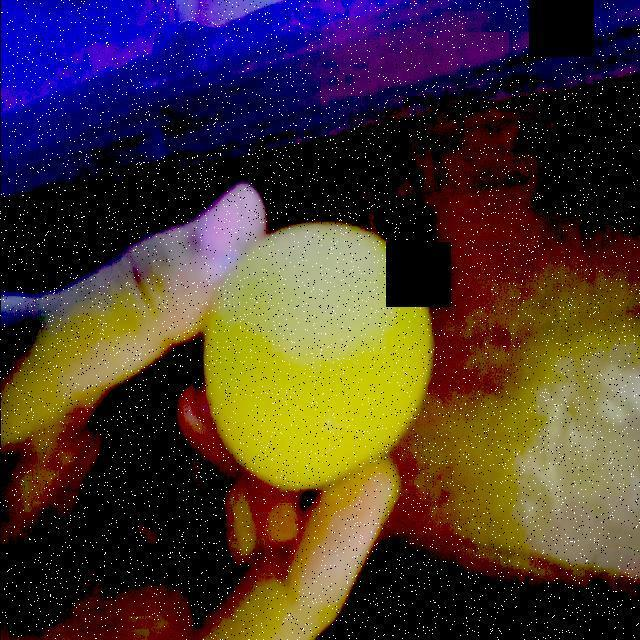egg: (202, 213, 440, 498)
